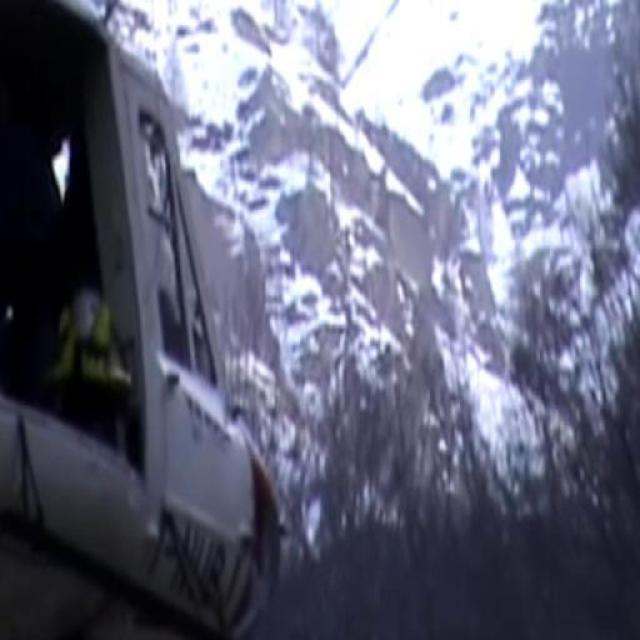drone: (0, 0, 305, 640)
